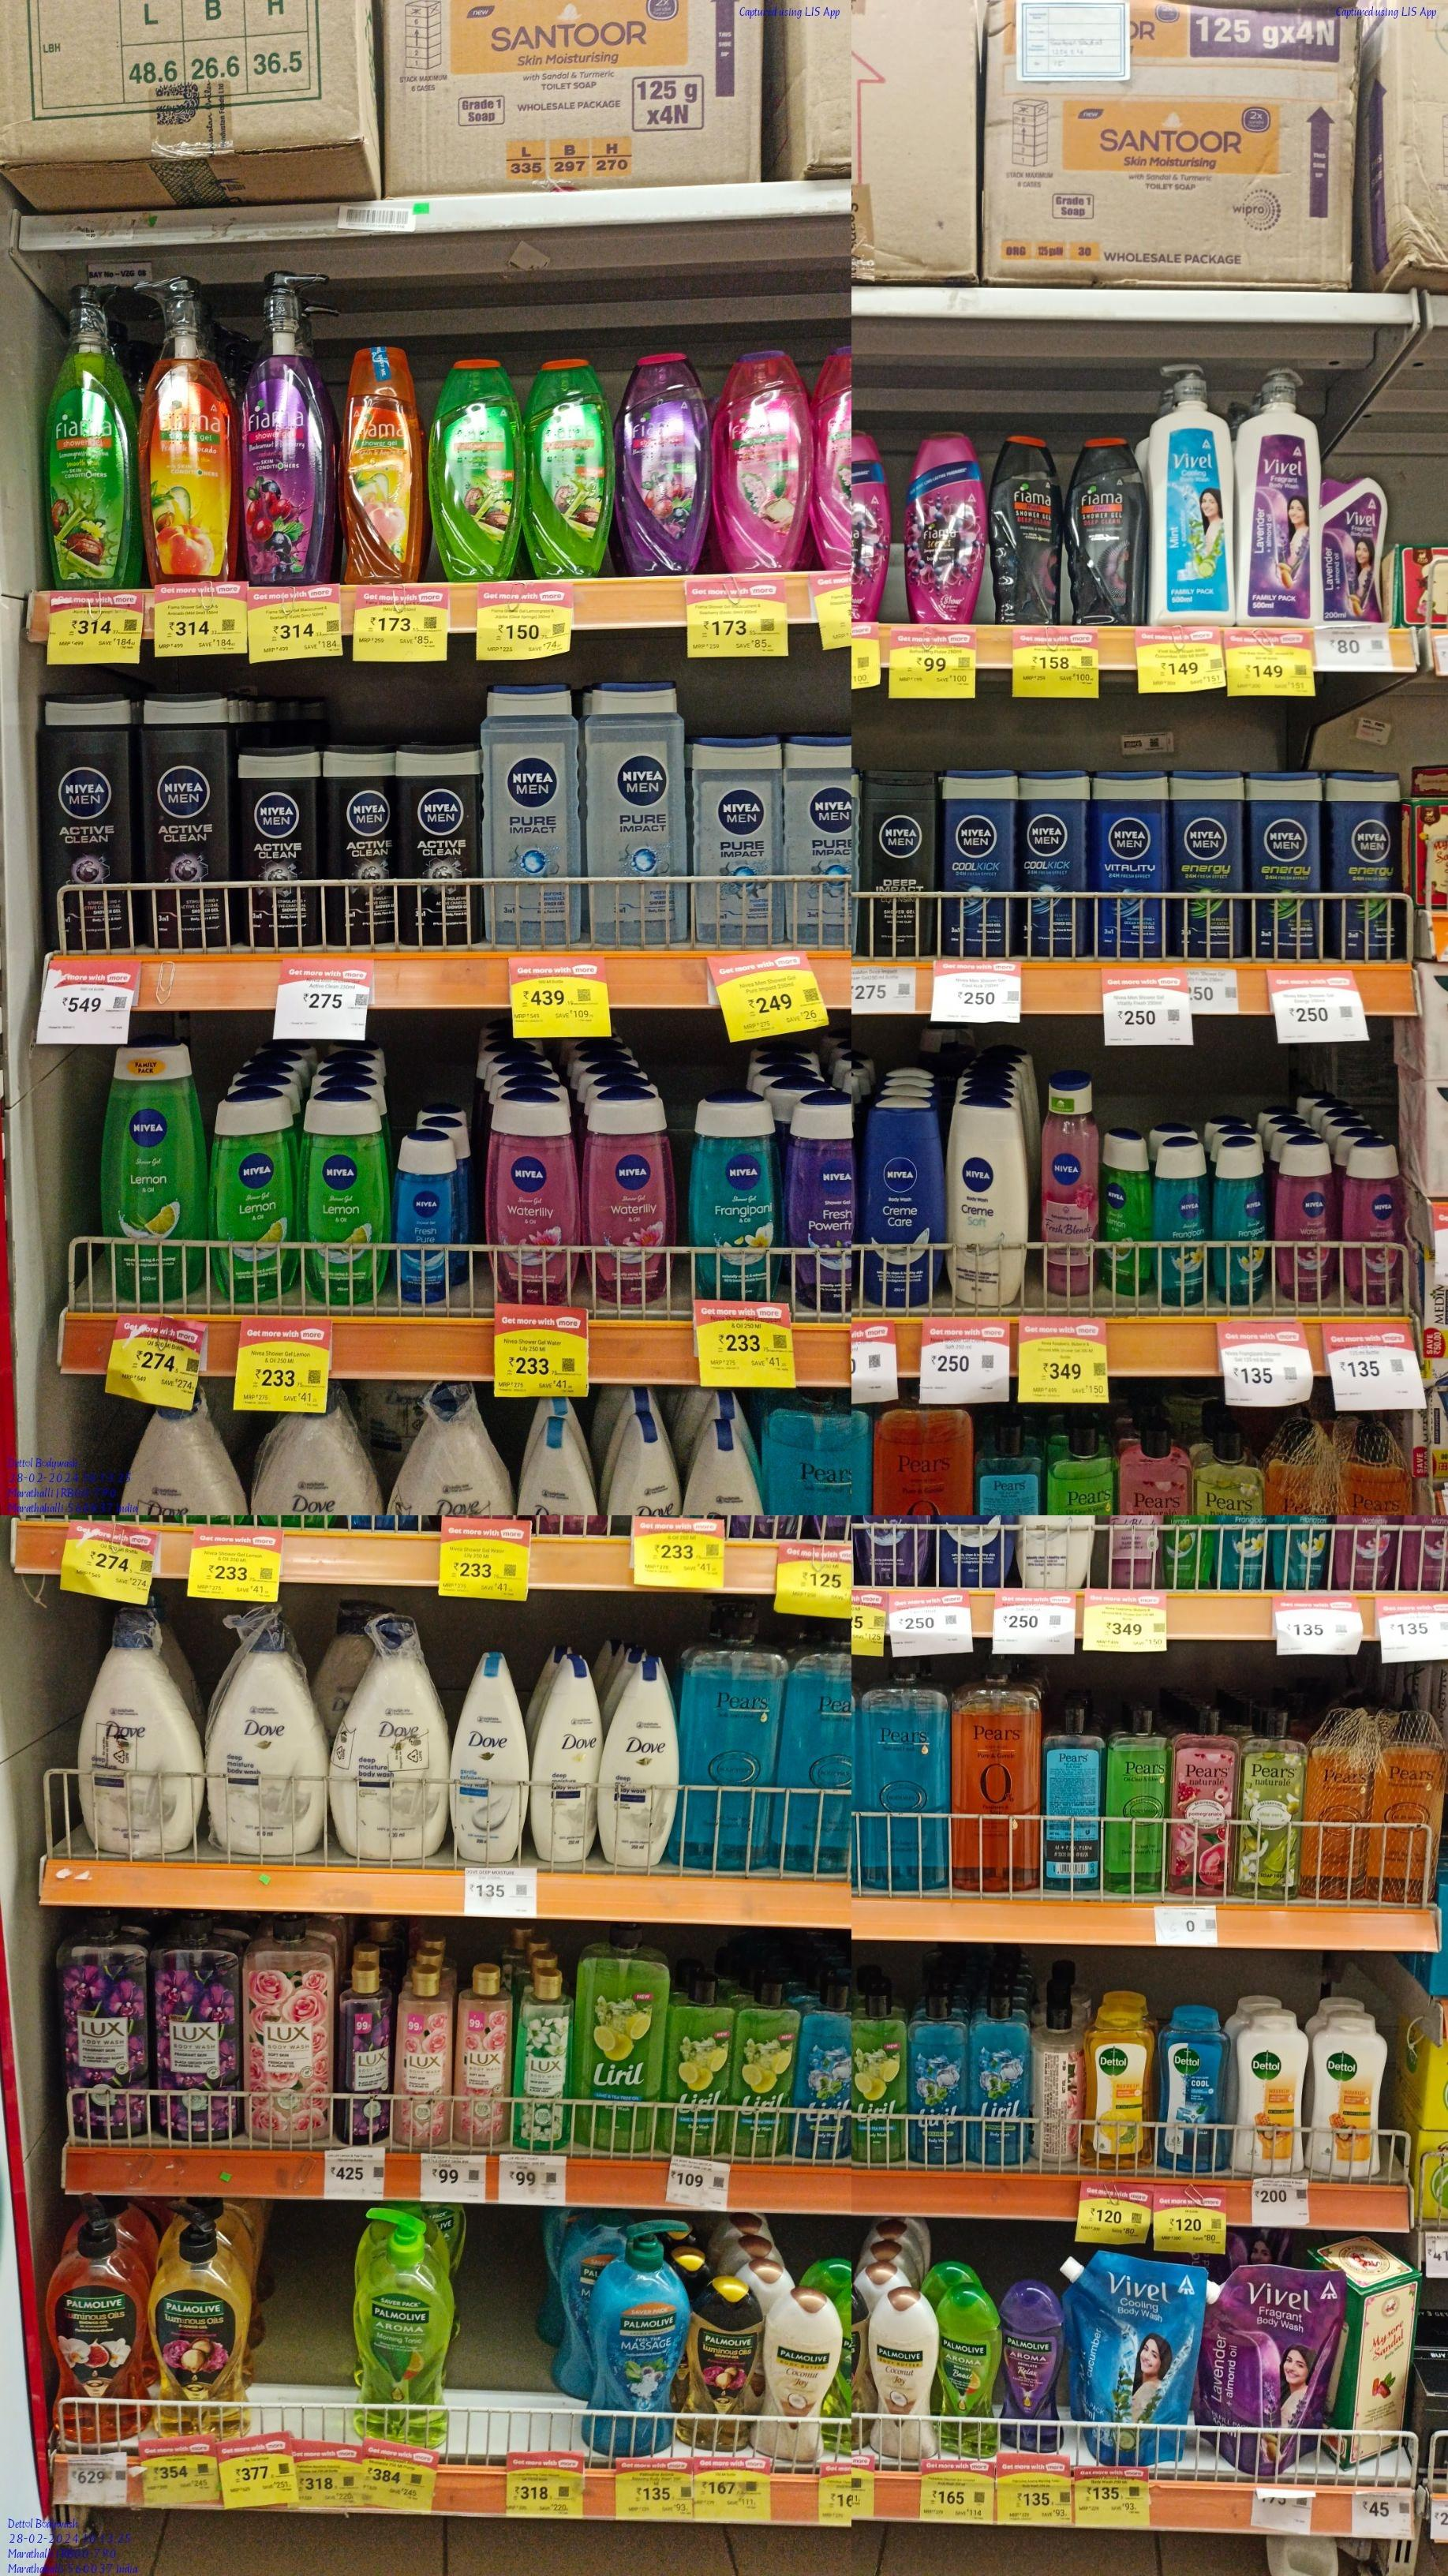Dettol_Bodywash_Cool: (1158, 2005, 1223, 2178)
Dettol_Bodywash_Refresh: (1086, 2003, 1155, 2171)
Dettol_Nourish_Body_Wash_250ML: (1310, 2010, 1383, 2180), (1238, 2013, 1308, 2180)
Dove_Deep_Moisture_Body_Wash_250ML: (606, 1656, 677, 1874), (537, 1652, 601, 1865)
Dove_Gentle_Exfoliating_Body_Wash_250ML: (453, 1652, 527, 1868)
Fiama_Shower_Gel_Lemongrass_and_Jojoba_250ML: (433, 357, 520, 587), (525, 357, 612, 582)
Fiama_Shower_Gel_Patchouli_and_Macadamia_250ML: (713, 350, 804, 577)
Liril_Cooling_Mint_Body_Wash_250ML: (972, 1989, 1034, 2167), (909, 1985, 969, 2166), (796, 1983, 852, 2162)
Liril_Lime_and_Tea_Tree_Oil_Body_Wash_250ML: (668, 1974, 728, 2158), (854, 1985, 907, 2164), (737, 1978, 789, 2160)
Lux_Black_Orchid_Scent_and_Juniper_Oil_Body_Wash_245ML: (338, 1960, 394, 2150)
Lux_Body_Wash_Skin_Detox_Freesia_Scent_and_Alove_Vera_245ML: (514, 1962, 573, 2157)
Nivea_Creme_Care_Body_Wash_250ML: (863, 1099, 944, 1306)
Nivea_Creme_Soft_Body_Wash_250ML: (948, 1095, 1029, 1315)
Nivea_Shower_Gel_Frangipani_and_Oil_250ML: (695, 1092, 778, 1315)
Nivea_Shower_Gel_Fresh_Powerfruit_250ML: (785, 1097, 856, 1323)
Nivea_Shower_Gel_Lemon_and_Oil_250ML: (104, 1039, 205, 1307), (216, 1099, 302, 1304), (304, 1099, 387, 1309)
Nivea_Shower_Gel_Waterlily_and_Oil_250ML: (582, 1090, 668, 1302), (488, 1090, 573, 1306)
Palmolive_Aroma_Morning_Tonic_Shower_Gel_250ML: (939, 2289, 1001, 2461)
Palmolive_Aroma_Relax_250ML: (1002, 2281, 1064, 2454)
Palmolive_Coconut_Joy_Exfoliating_Body_Wash_250ML: (760, 2291, 827, 2463), (873, 2286, 934, 2465)
Palmolive_Luminous_Oils_Invigorating_Macadamia_Oil_With_Peony_250ML: (690, 2273, 755, 2457)
Pears_Naturale_Aloe_Vera_Body_Wash_250ML: (1241, 1702, 1303, 1902)
Pears_Pure_Glycerin_and_Lemon_Flower_Extracts_Body_Wash_250ML: (1103, 1700, 1167, 1895)
